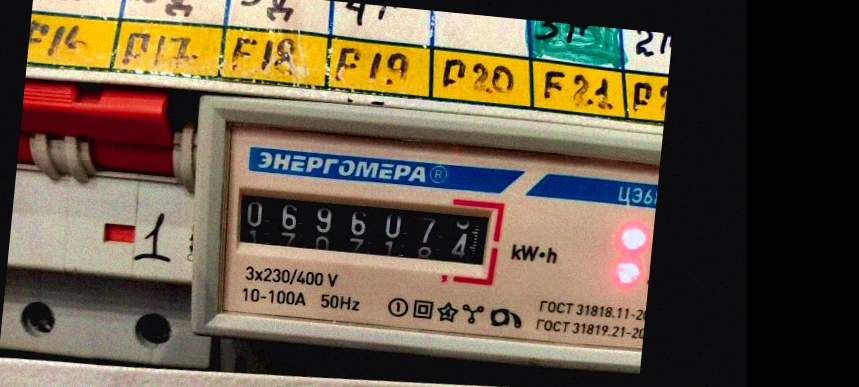0: (382, 208, 403, 239), (243, 197, 264, 227)
4: (449, 229, 468, 259)
6: (347, 206, 368, 237), (278, 200, 300, 229)
7: (417, 213, 437, 245)
9: (313, 204, 333, 233)
screen: (218, 168, 510, 284)
